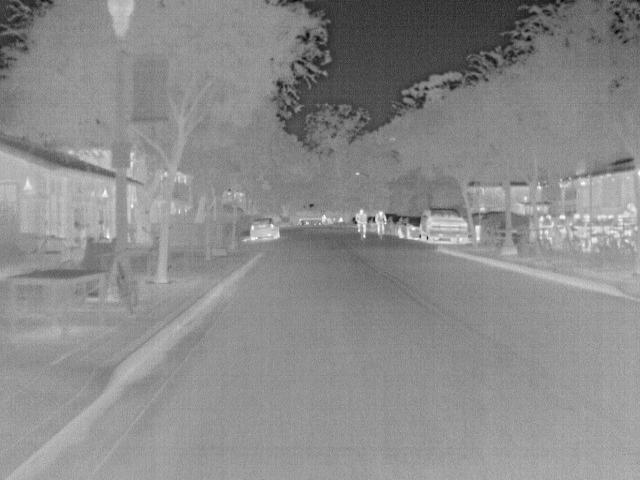car: (418, 206, 471, 246), (245, 215, 282, 240), (397, 213, 426, 239), (387, 214, 400, 234)
person: (355, 209, 370, 240), (375, 208, 387, 238)
